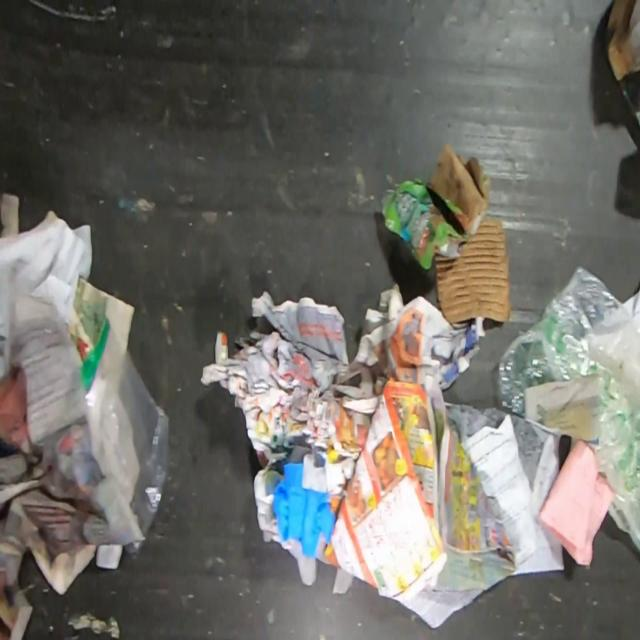cardboard: (379, 141, 490, 271), (434, 215, 512, 324), (603, 0, 640, 134)
soft_plastic: (492, 263, 640, 554), (80, 314, 172, 540), (123, 539, 144, 558)
